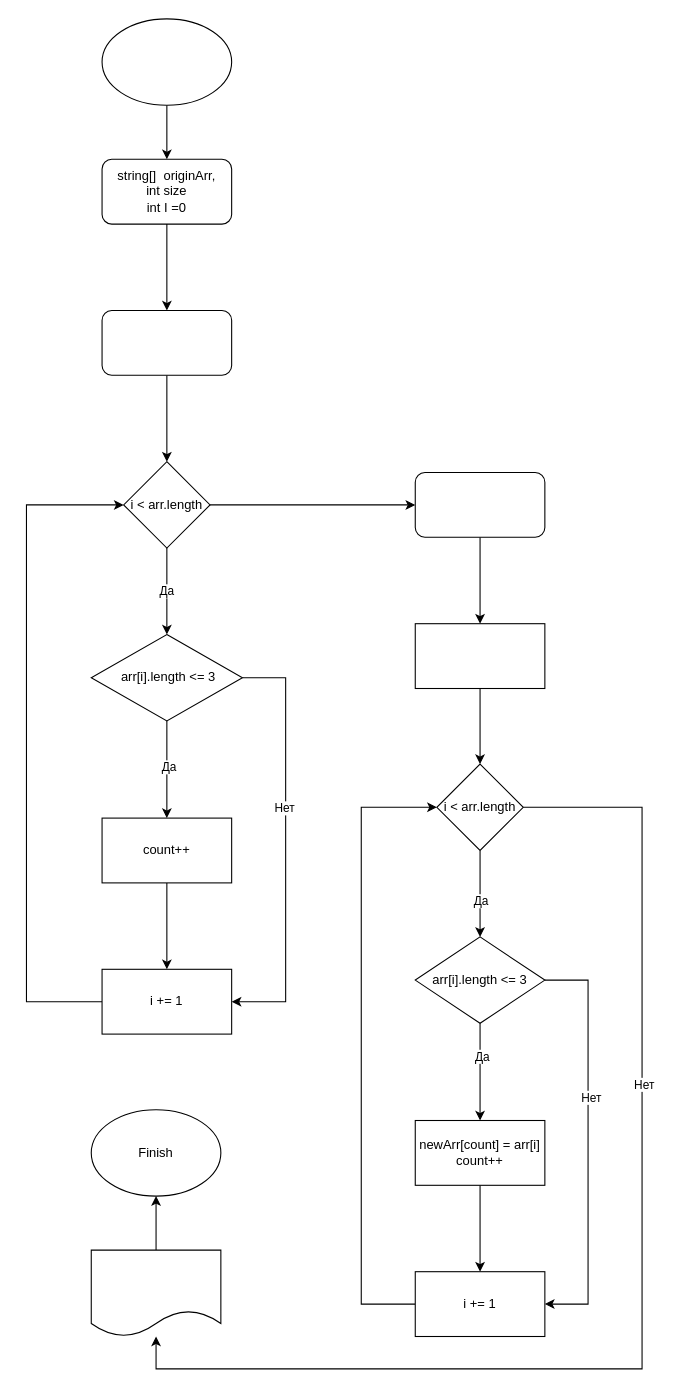
Image size: 673x1396. Some labels were removed from this diagram. Each missing label, with the centre of its shape:
i = 0 count = 0: the point at 479,655
int count = 0: the point at 166,342
newArr: the point at 155,1292
Start: the point at 166,61
string[] newArr = new String[count]: the point at 479,504
